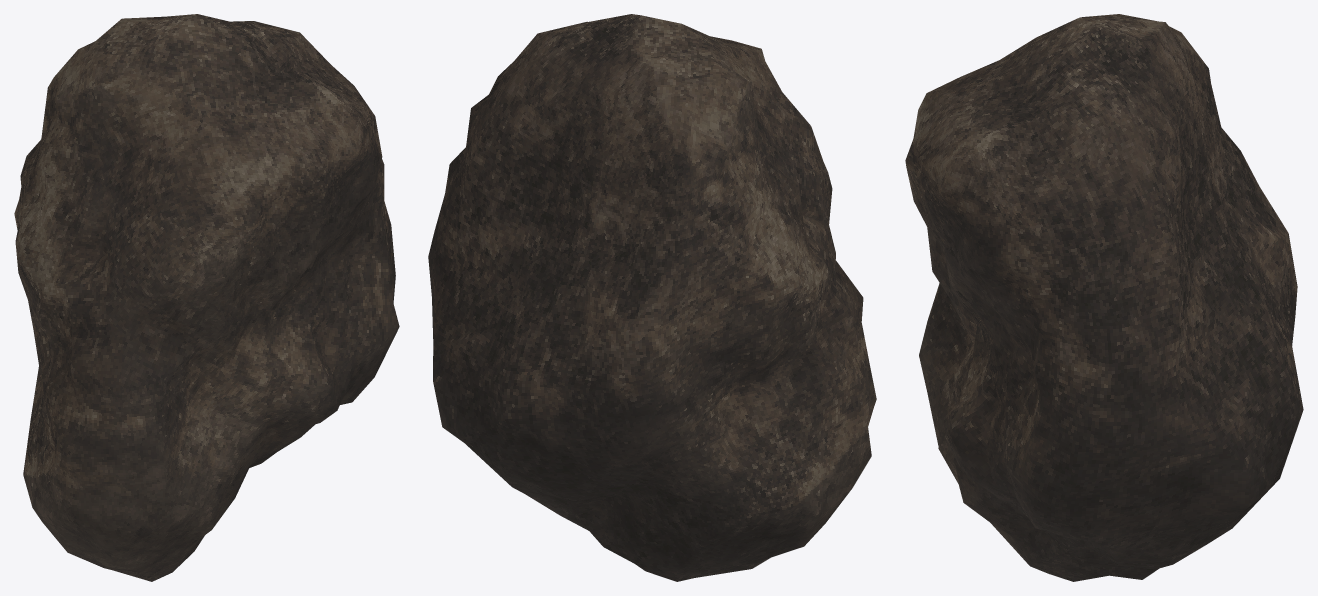
The model's file is SM_RP2_Rock_4m_9.glb.
3 renders of one model, left to right at view 1: azimuth 30°, elevation 25°; view 2: azimuth 150°, elevation 25°; view 3: azimuth 270°, elevation 25°, orthographic. The views are drawn at different scales.
Visible parts, largest first — view 1: SM_RP2_Rock_4m_9; view 2: SM_RP2_Rock_4m_9; view 3: SM_RP2_Rock_4m_9.
Part boxes in pixels (x1=…): SM_RP2_Rock_4m_9: x1=14, y1=14, x2=399, y2=581; SM_RP2_Rock_4m_9: x1=428, y1=14, x2=876, y2=581; SM_RP2_Rock_4m_9: x1=905, y1=14, x2=1303, y2=581.
Size of the model in its own units: 5.08 by 6.94 by 4.3.
1 material, 1 textured.
